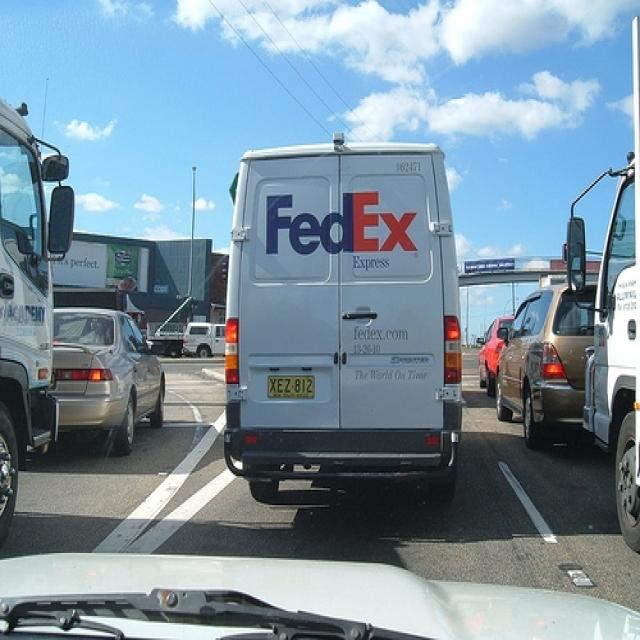fedex: (262, 190, 425, 259)
